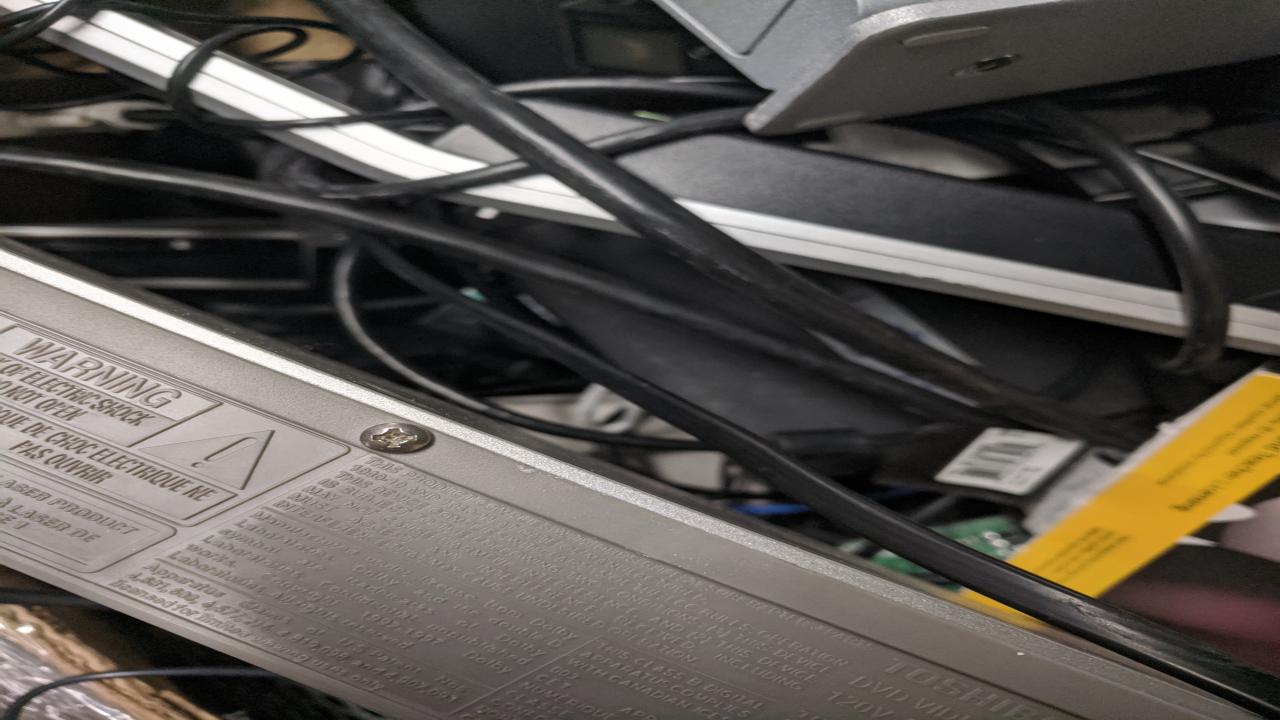CRS: (355, 421, 435, 457)
